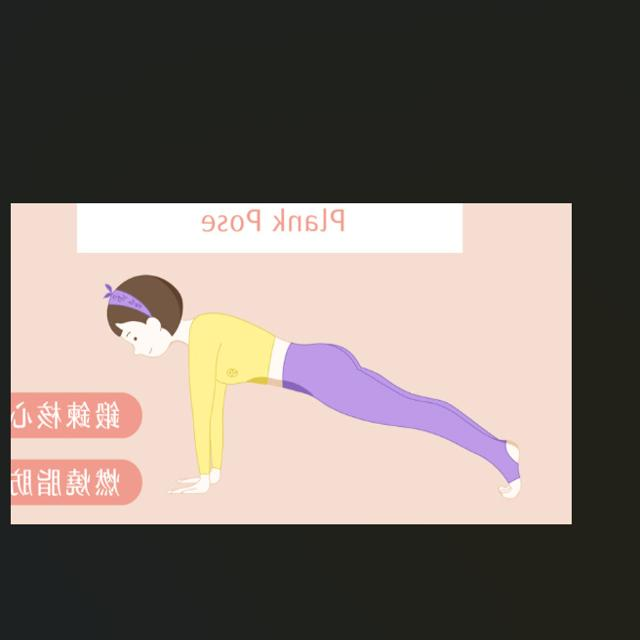Plank_Pose: (93, 262, 528, 512)
